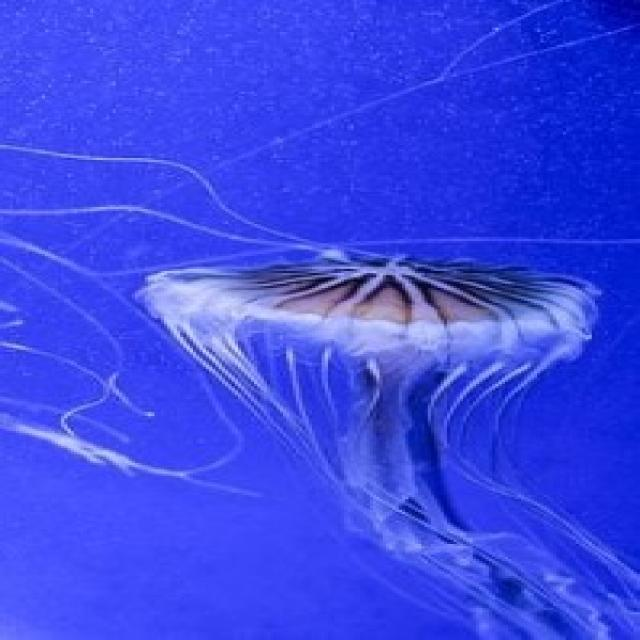Jellyfish: (108, 198, 640, 632)
